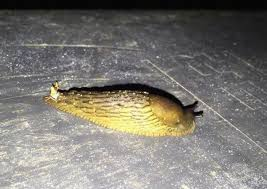slug: (42, 85, 206, 140)
